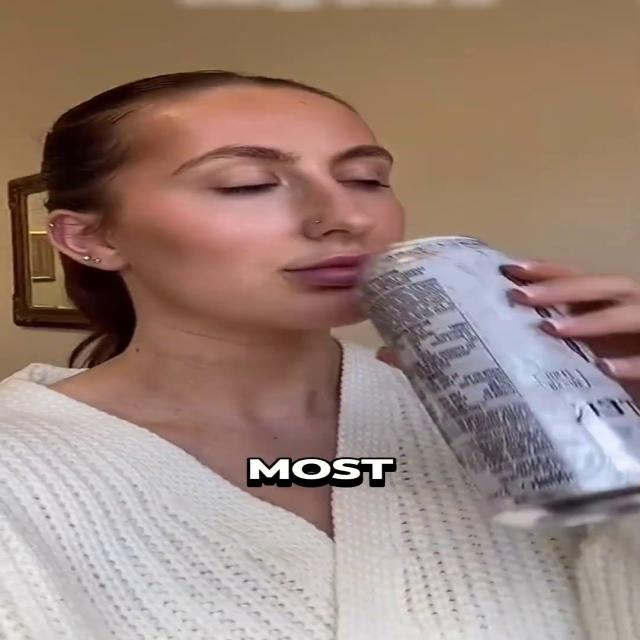Can: (351, 238, 639, 532)
Hand: (351, 246, 640, 422)
Mouth: (258, 244, 421, 293)
